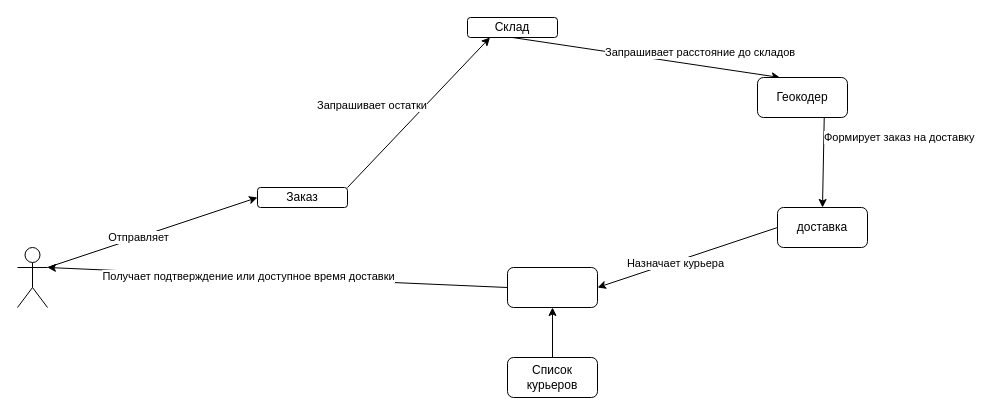
The diagram is 992 pixels wide and 415 high, and some of its shapes have lost their labels. Each missing label, with the centre of its shape:
"Actor" belongs at pixel 32 277.
"Расписание курьеров" belongs at pixel 552 287.
